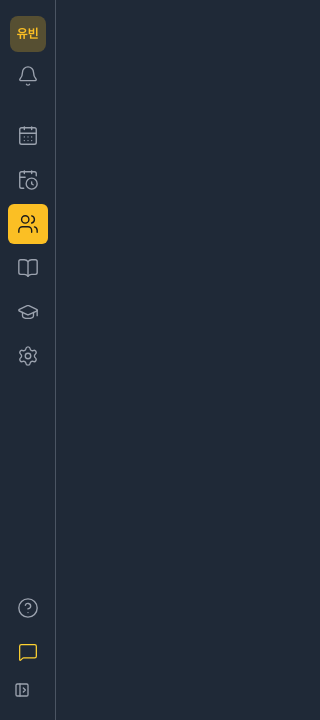
Test: Sidebar — Academy Switcher › 스위처 버튼을 누르면 학원 목록 드롭다운이 표시된다
Click the button with aria-label "유빈학원" at (28, 34), box x1=10 y1=16 x2=46 y2=52
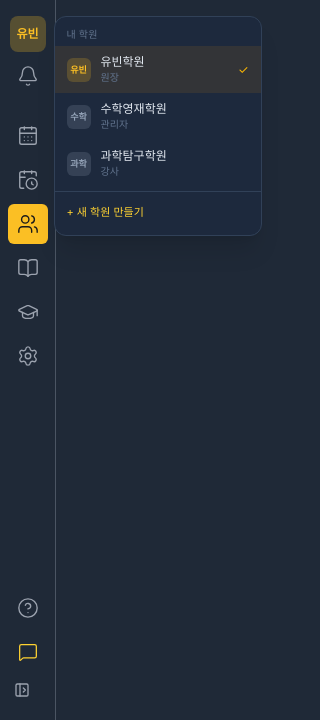
Check: the text "유빈학원" is shown, box x1=100 y1=54 x2=145 y2=69
Check: the text "수학영재학원" is shown, box x1=100 y1=101 x2=167 y2=116
Check: the text "과학탐구학원" is shown, box x1=100 y1=148 x2=167 y2=163
